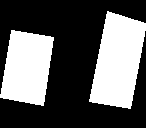parkingspot: (89, 11, 146, 108), (0, 30, 53, 105)
